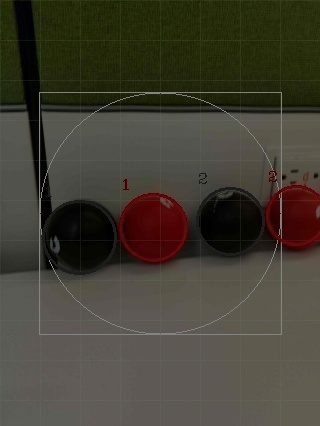Pelota negra: (42, 198, 118, 275), (196, 185, 265, 259)
Pelota roja: (116, 190, 190, 264), (263, 182, 320, 248), (121, 177, 129, 192)
